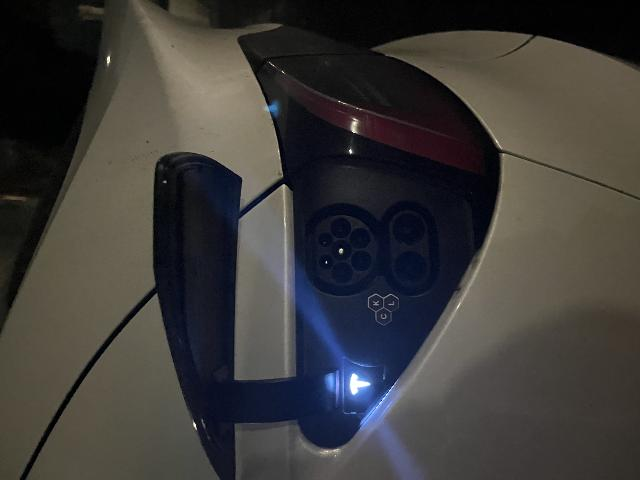inlet: (194, 314, 265, 376)
inlet-above-left: (211, 319, 225, 333)
inlet-above-right: (233, 318, 247, 332)
inlet-below-left: (209, 351, 230, 371)
inlet-below-right: (231, 350, 252, 370)
inlet-circle: (219, 331, 240, 352)
inlet-circle-left: (197, 331, 218, 353)
inlet-circle-right: (241, 331, 262, 351)
inlet-minus: (234, 392, 267, 425)
inlet-plus: (197, 395, 229, 426)
